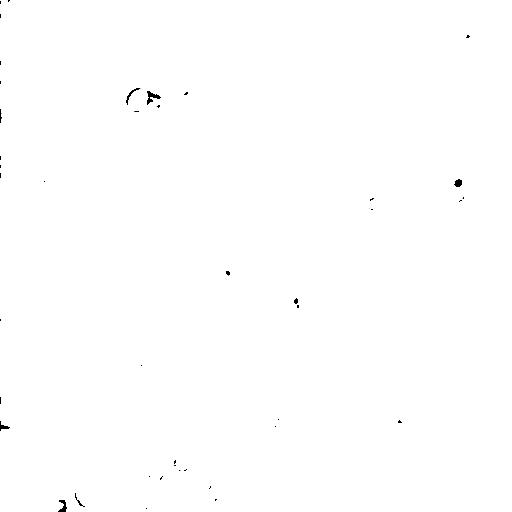micro-algae: (163, 59, 236, 135), (355, 25, 431, 97), (389, 418, 438, 467), (324, 274, 365, 316), (447, 183, 487, 224), (87, 248, 126, 288), (438, 161, 477, 201), (249, 363, 287, 393), (390, 389, 425, 421), (215, 252, 245, 288), (154, 4, 183, 32), (190, 69, 215, 101), (0, 151, 29, 178), (203, 0, 237, 23), (435, 0, 469, 21), (146, 101, 171, 129), (1, 395, 21, 429), (453, 22, 479, 48), (93, 459, 121, 483), (125, 84, 147, 112), (205, 479, 228, 505), (170, 74, 191, 102), (172, 449, 195, 473), (374, 65, 401, 85), (75, 483, 97, 507), (145, 463, 169, 485), (264, 311, 289, 331), (378, 291, 399, 314), (365, 191, 389, 211), (62, 199, 85, 219), (274, 331, 297, 351), (292, 290, 313, 311), (49, 0, 77, 14), (274, 413, 293, 432), (139, 350, 153, 374), (133, 299, 147, 322), (2, 0, 25, 13), (29, 169, 47, 185), (503, 477, 512, 509), (47, 497, 67, 511), (1, 60, 11, 87), (136, 501, 154, 512)
